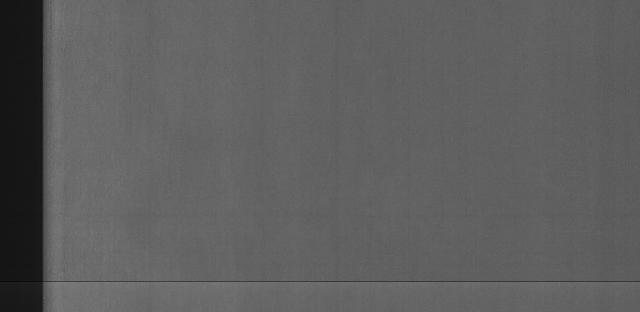welding_line: (40, 272, 640, 293)
